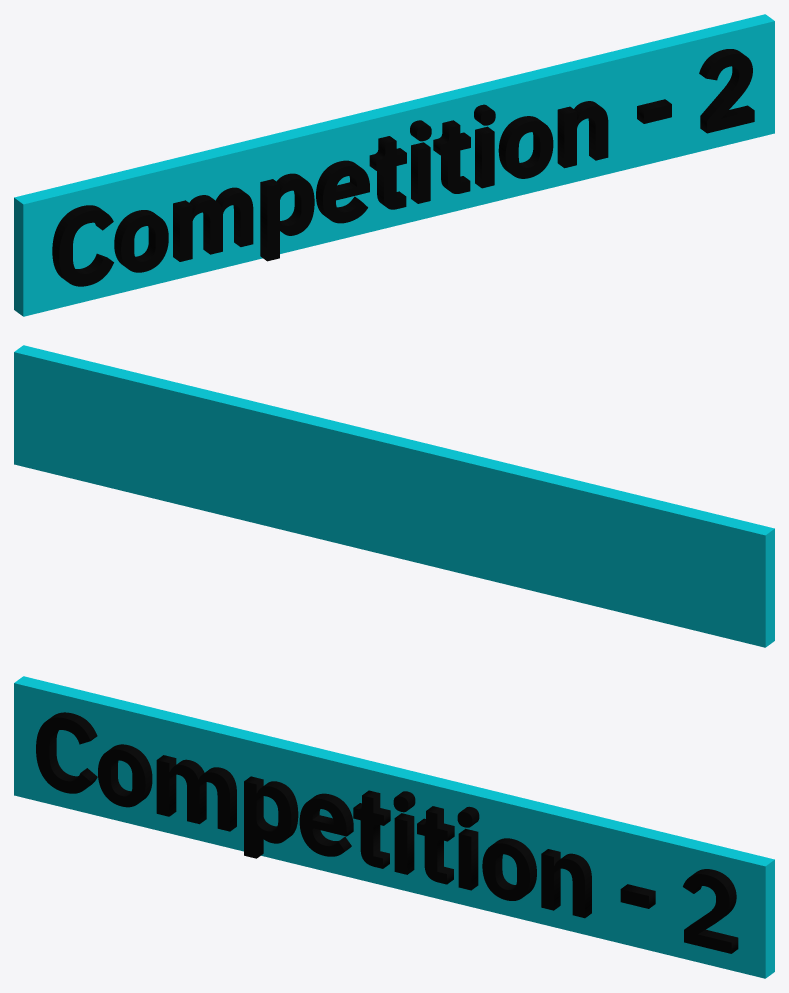
File: tag_2.glb
3 renders of one model, top to bottom at view 1: azimuth 30°, elevation 25°; view 2: azimuth 150°, elevation 25°; view 3: azimuth 330°, elevation 25°, orthographic.
Parts seen in each view (by area): view 1: Plane.005, Text.010; view 2: Plane.005; view 3: Plane.005, Text.010.
Part boxes in pixels (left/top/right/bottom): Plane.005: left=14, top=14, right=774, bottom=316; Text.010: left=52, top=49, right=754, bottom=286; Plane.005: left=14, top=345, right=774, bottom=647; Plane.005: left=14, top=676, right=774, bottom=978; Text.010: left=36, top=712, right=738, bottom=953.
Bounding box in the file's own units: 0.7 × 0.1 × 0.0264.
